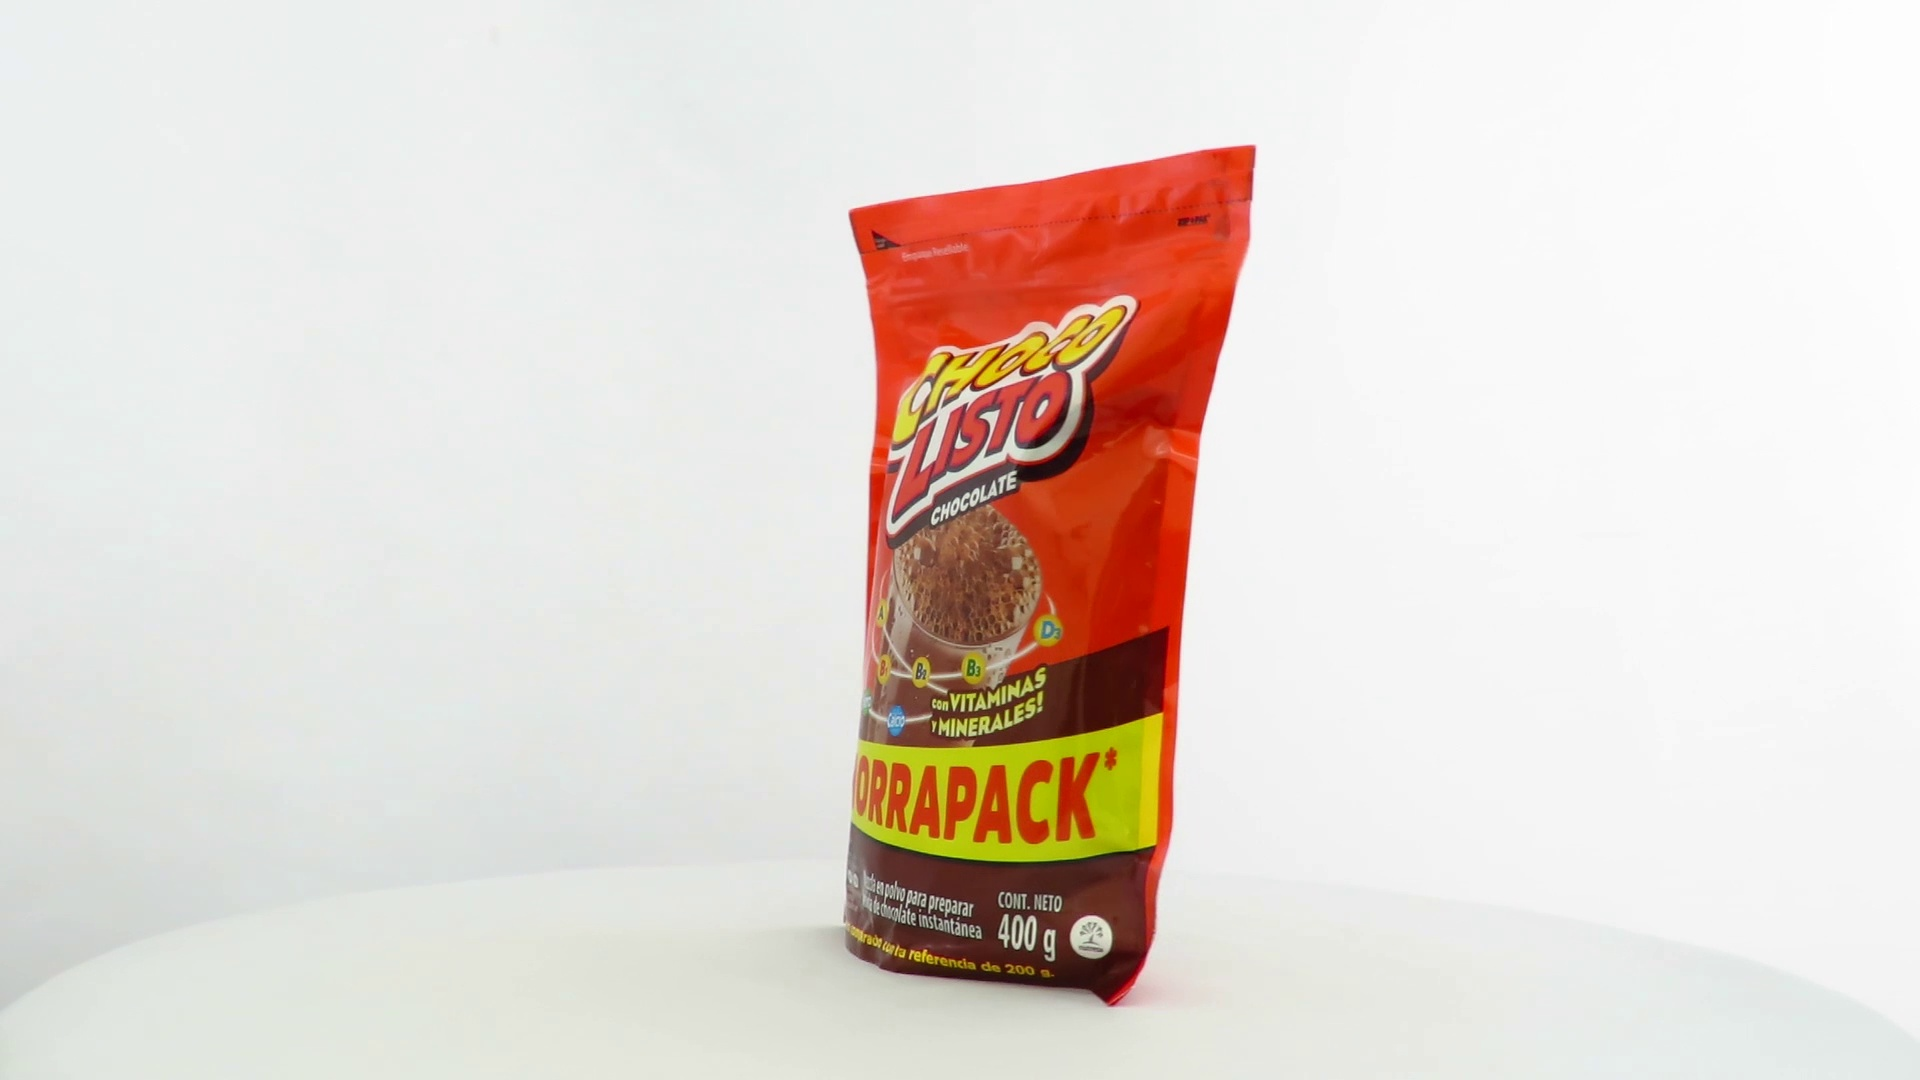COL0170103DYP40000: (837, 140, 1262, 1013)
